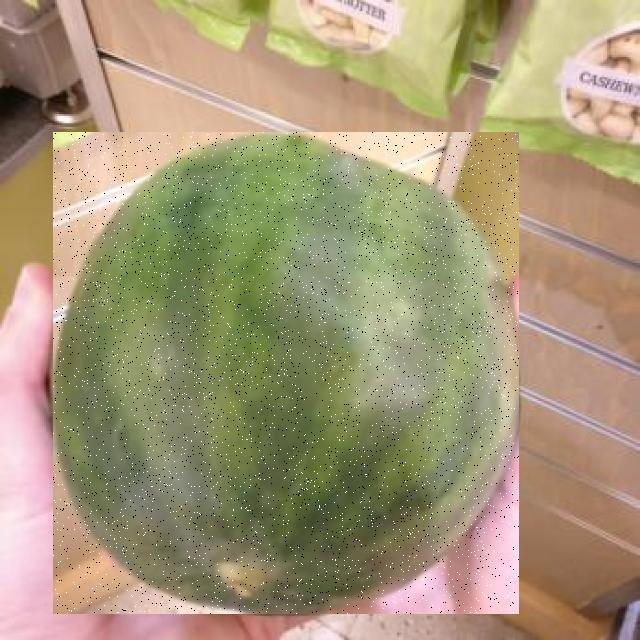Watermelon: (53, 133, 519, 615)
